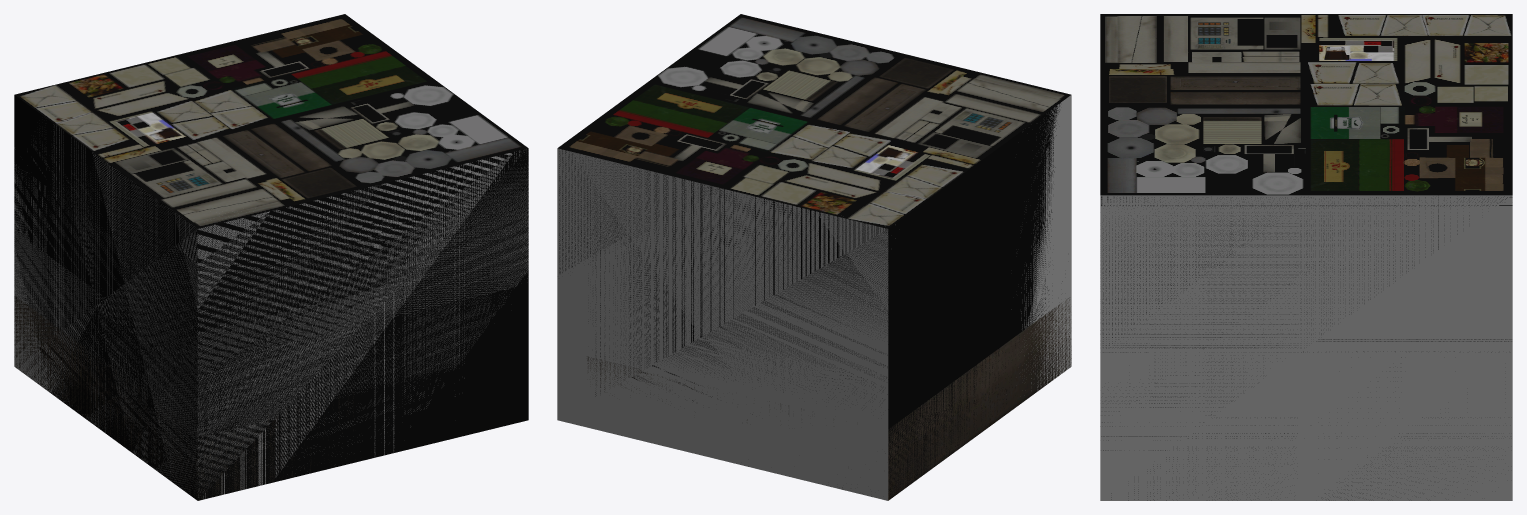
File: cash_register.FBX
3 renders of one model, left to right at view 1: azimuth 30°, elevation 25°; view 2: azimuth 150°, elevation 25°; view 3: azimuth 270°, elevation 25°, orthographic. The views are drawn at different scales.
Parts seen in each view (by area): view 1: colbox-1, bounds, cash_register100; view 2: colbox-1, bounds, cash_register100; view 3: bounds, colbox-1.
Part boxes in pixels (box(x1,y1,x2,y2)): colbox-1: box(14, 14, 528, 500); bounds: box(14, 124, 528, 500); cash_register100: box(14, 296, 353, 500); colbox-1: box(558, 14, 1070, 499); bounds: box(557, 95, 1071, 500); cash_register100: box(587, 297, 1071, 500); bounds: box(1100, 195, 1512, 500); colbox-1: box(1100, 14, 1512, 500).
Bounding box in the file's own units: 47.59 × 37.4 × 45.71.
